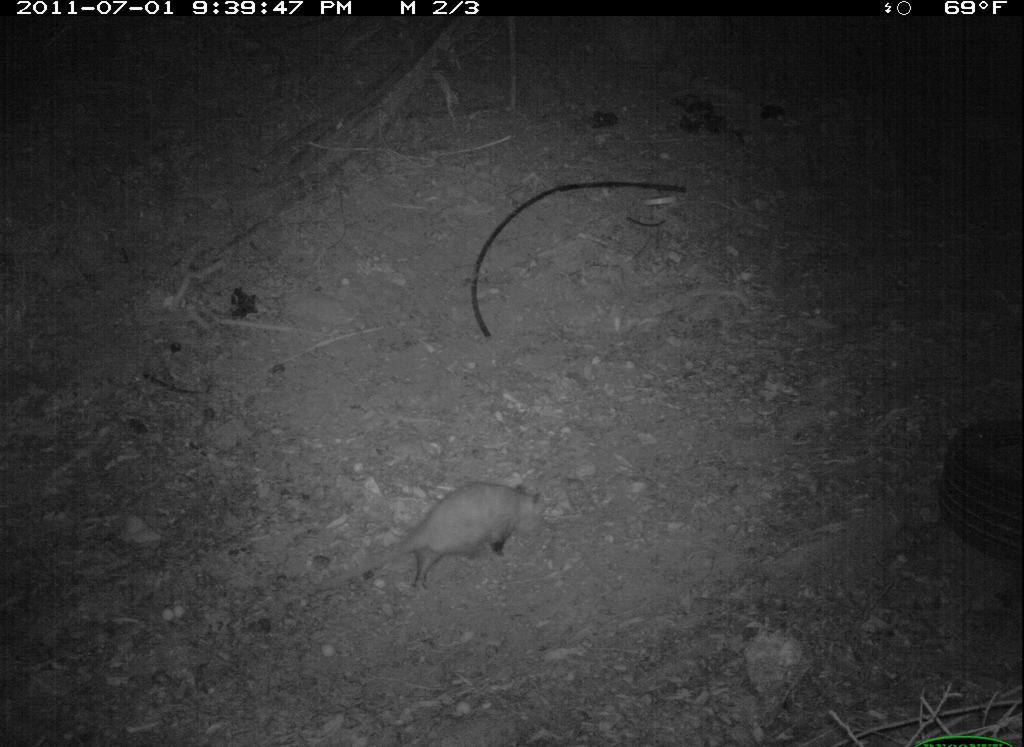opossum: (317, 461, 561, 603)
